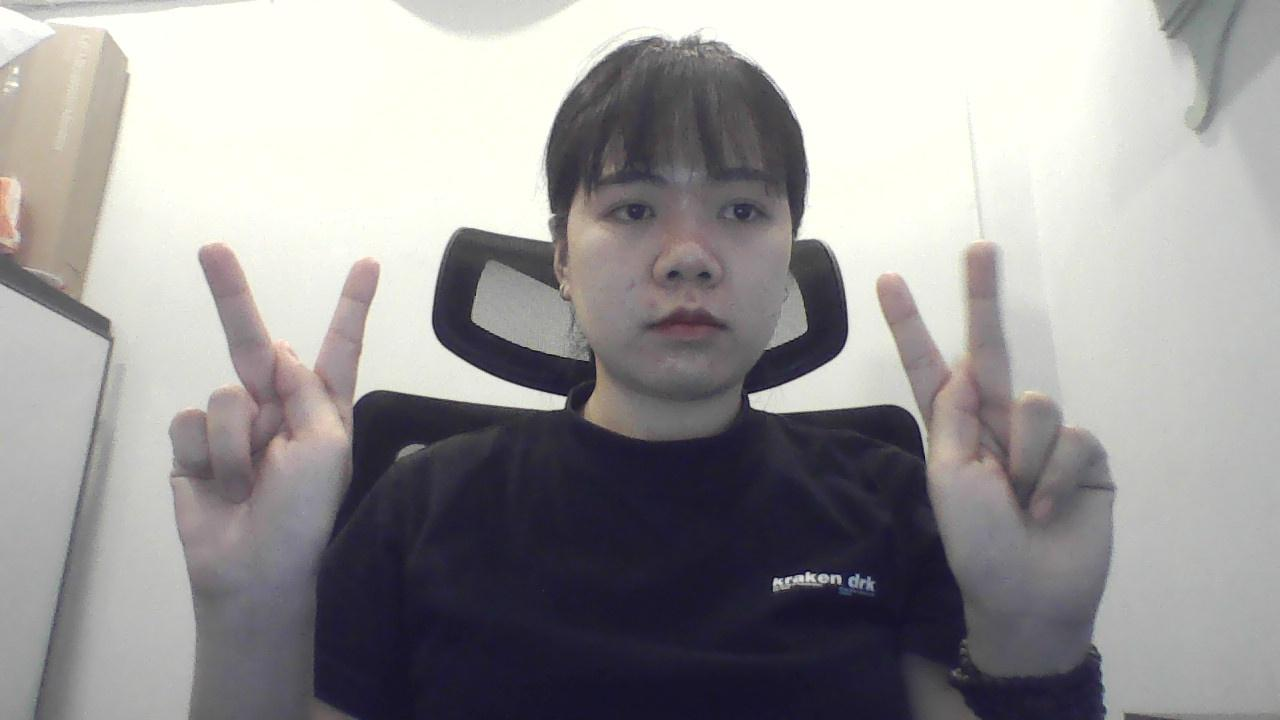K: (859, 224, 1134, 643), (154, 231, 389, 624)
